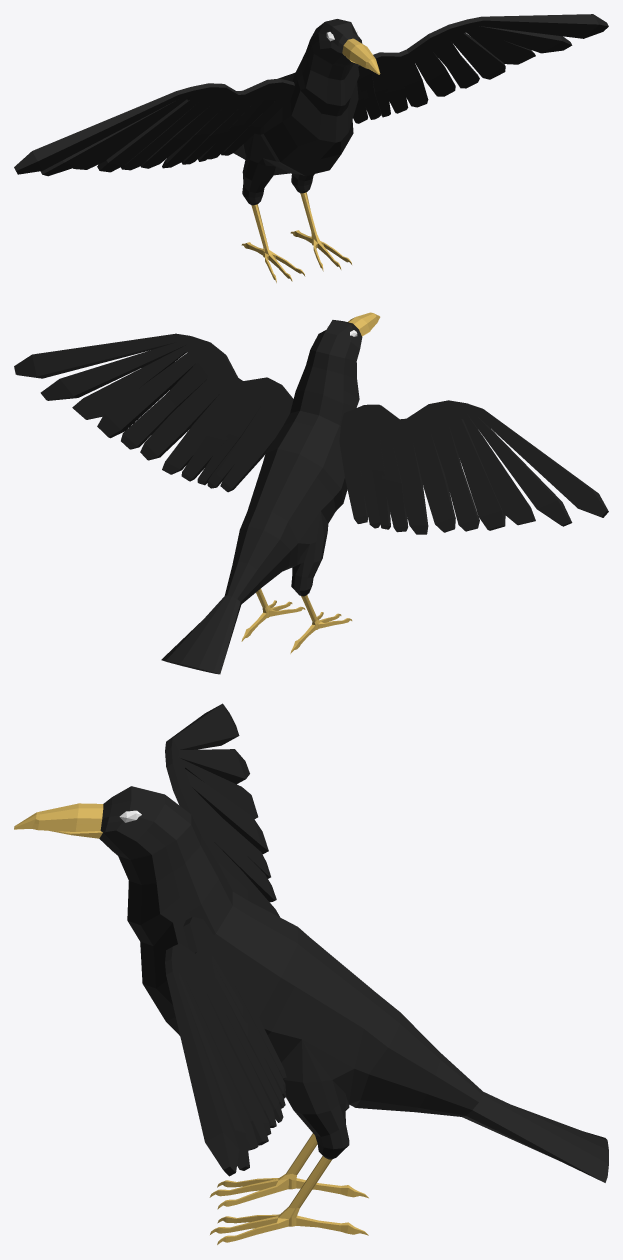
Rendered from Crow.fbx.
The picture shows the model from 3 angles, top to bottom: view 1: azimuth 30°, elevation 25°; view 2: azimuth 150°, elevation 25°; view 3: azimuth 270°, elevation 25°; orthographic projection. The views are drawn at different scales.
Visible parts, largest first — view 1: Cylinder; view 2: Cylinder; view 3: Cylinder.
Part boxes in pixels (bbox=[...]): Cylinder: bbox=[14, 14, 608, 282]; Cylinder: bbox=[14, 312, 608, 674]; Cylinder: bbox=[14, 703, 608, 1244].
Size of the model in its own units: 1255 by 547 by 696.
